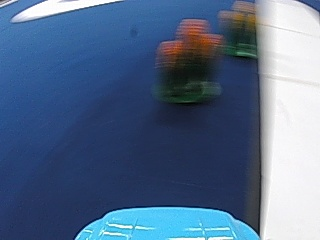corn: (152, 13, 221, 108)
